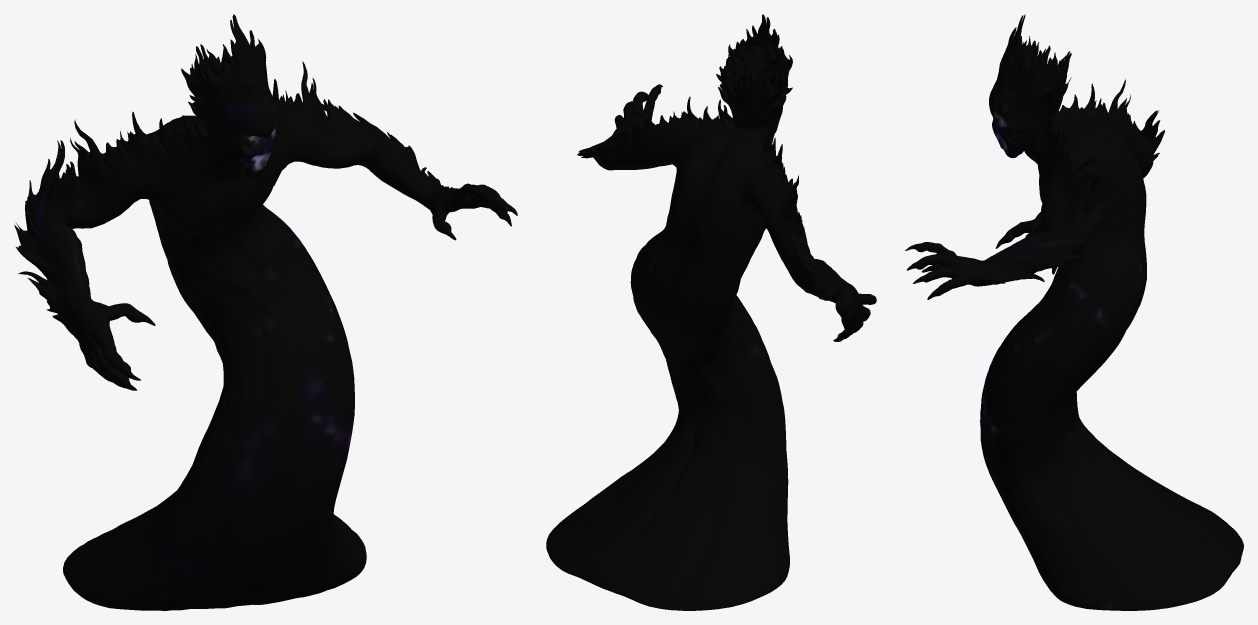
Rendered from MZ4250 - Shadow_2025.glb.
3 views of the same model, side by side, from view 1: azimuth 30°, elevation 25°; view 2: azimuth 150°, elevation 25°; view 3: azimuth 270°, elevation 25° (orthographic). The views are drawn at different scales.
Parts seen in each view (by area): view 1: Body.002; view 2: Body.002; view 3: Body.002.
Boxes of the visible parts, box(x1,y1,x2,y2) form: Body.002: box(14, 14, 517, 610); Body.002: box(546, 14, 876, 610); Body.002: box(905, 14, 1243, 610).
Bounding box in the file's own units: 59.58 × 92.78 × 53.93.
1 material, 1 textured.
